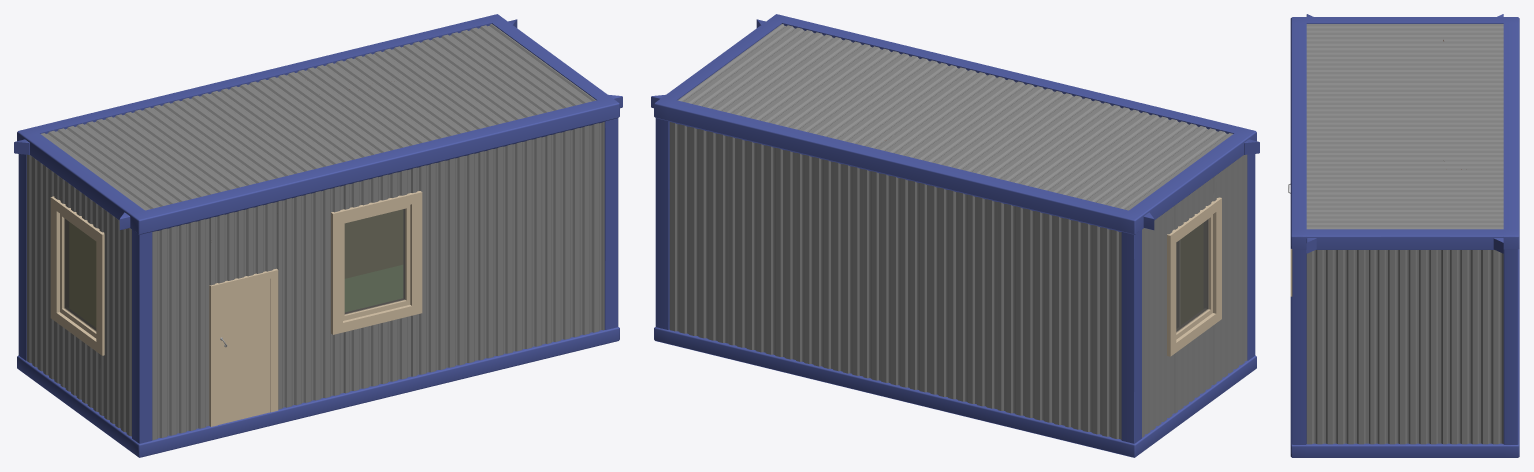
File: Vagon.fbx
3 views of the same model, side by side, from view 1: azimuth 30°, elevation 25°; view 2: azimuth 150°, elevation 25°; view 3: azimuth 270°, elevation 25° (orthographic). The views are drawn at different scales.
Parts seen in each view (by area): view 1: Front_wall, Up_Part, Window_1_1, Frame, Down_Part, Roof, Door_1_1, Window_1_5, Wall_destr_91, Wall_destr_85, Left_wall, Wall_destr_52 (+33 smaller); view 2: Back_wall, Up_Part, Frame, Down_Part, Left_wall, Roof, Window_1_5, Wall_destr_85, Wall_destr_91, Wall_destr_39, Wall_destr_35, Wall_destr_32 (+25 smaller); view 3: Right_wall, Roof, Up_Part, Frame, Down_Part, Wall_destr_95, Wall_destr_93, Wall_destr_41, Wall_destr_35, Wall_destr_42, Wall_destr_39, Wall_destr_21 (+19 smaller).
Part boxes in pixels (x1,y1,x2,y2): Front_wall: (152, 122, 604, 440); Up_Part: (17, 14, 619, 233); Window_1_1: (331, 191, 422, 334); Frame: (18, 118, 618, 443); Down_Part: (17, 327, 619, 457); Roof: (47, 24, 590, 210); Door_1_1: (217, 279, 270, 424); Window_1_5: (50, 196, 104, 355); Wall_destr_91: (96, 209, 131, 430); Wall_destr_85: (27, 155, 62, 383); Left_wall: (29, 163, 131, 436); Wall_destr_52: (207, 203, 280, 284); Back_wall: (669, 122, 1121, 439); Up_Part: (654, 14, 1256, 233); Frame: (655, 118, 1255, 443); Down_Part: (654, 327, 1256, 457); Left_wall: (1142, 154, 1247, 435); Roof: (683, 27, 1231, 210); Window_1_5: (1167, 197, 1221, 356); Wall_destr_85: (1143, 209, 1177, 426); Wall_destr_91: (1211, 161, 1244, 383); Wall_destr_39: (1044, 129, 1152, 174); Wall_destr_35: (913, 98, 1011, 141); Wall_destr_32: (841, 79, 945, 124); Right_wall: (1307, 250, 1503, 444); Roof: (1306, 24, 1503, 229); Up_Part: (1290, 17, 1519, 249); Frame: (1292, 249, 1518, 444); Down_Part: (1290, 249, 1519, 457); Wall_destr_95: (1361, 252, 1440, 441); Wall_destr_93: (1314, 251, 1372, 442); Wall_destr_41: (1362, 24, 1446, 47); Wall_destr_35: (1364, 107, 1446, 139); Wall_destr_42: (1432, 24, 1503, 47); Wall_destr_39: (1364, 46, 1448, 80); Wall_destr_21: (1306, 24, 1372, 47).
Bounding box in the file's own units: 749 × 339 × 319.
